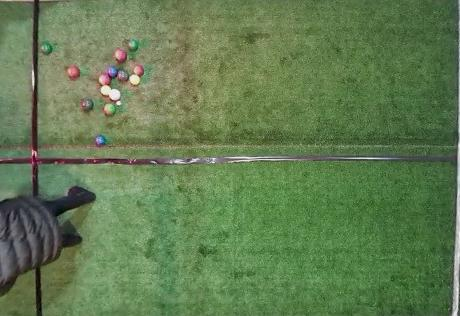blue: (108, 67, 118, 77), (95, 135, 105, 145)
green: (104, 104, 115, 115), (41, 43, 51, 55), (118, 70, 128, 82), (82, 100, 93, 110), (128, 40, 138, 51)
red: (115, 49, 127, 61), (109, 89, 121, 101), (99, 73, 110, 85), (68, 66, 80, 77), (134, 65, 144, 75)
vline: (1, 1, 39, 195), (450, 1, 459, 315), (1, 267, 44, 315)
white: (116, 101, 121, 105)
yellow: (129, 74, 140, 85), (100, 85, 111, 95)
